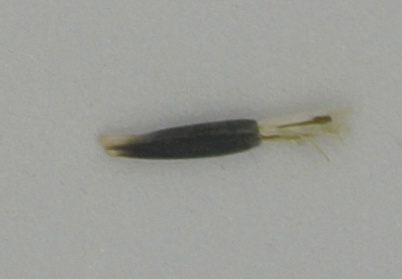เมล็ดดีติดกัน: (95, 100, 355, 162)
